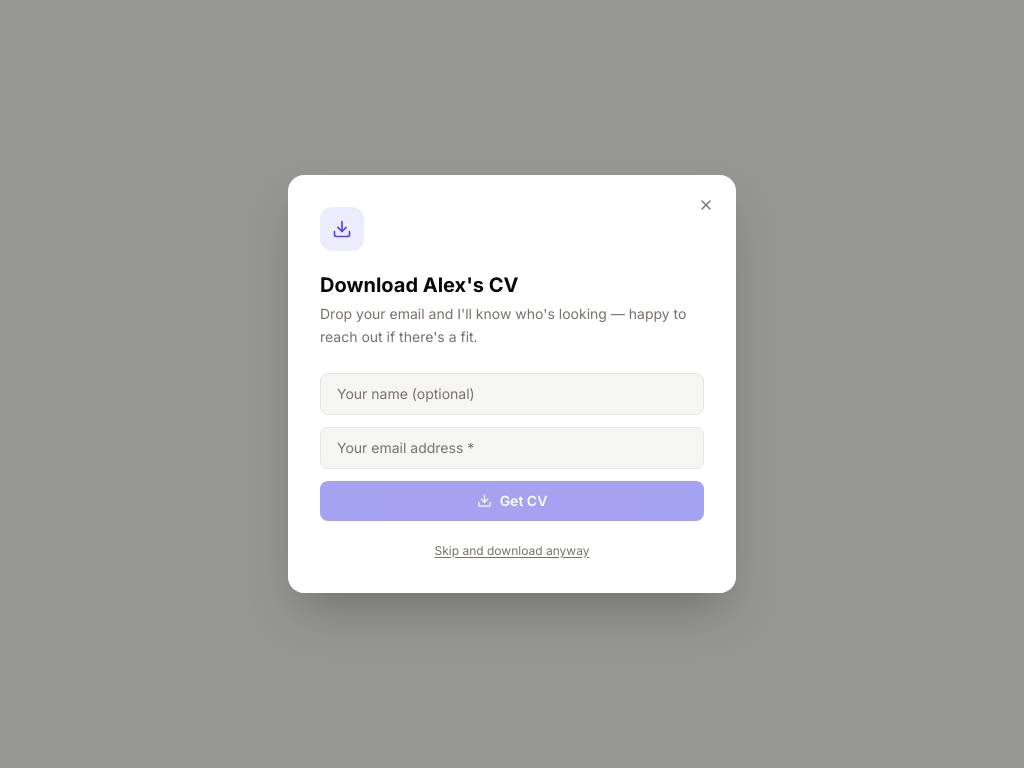
Scenario: LeadCaptureModal › submit button is enabled when email is filled
Type "test@example.com" into the field with placeholder "Your email address *".
click(512, 448); type("test@example.com")  # box x1=320 y1=427 x2=704 y2=469
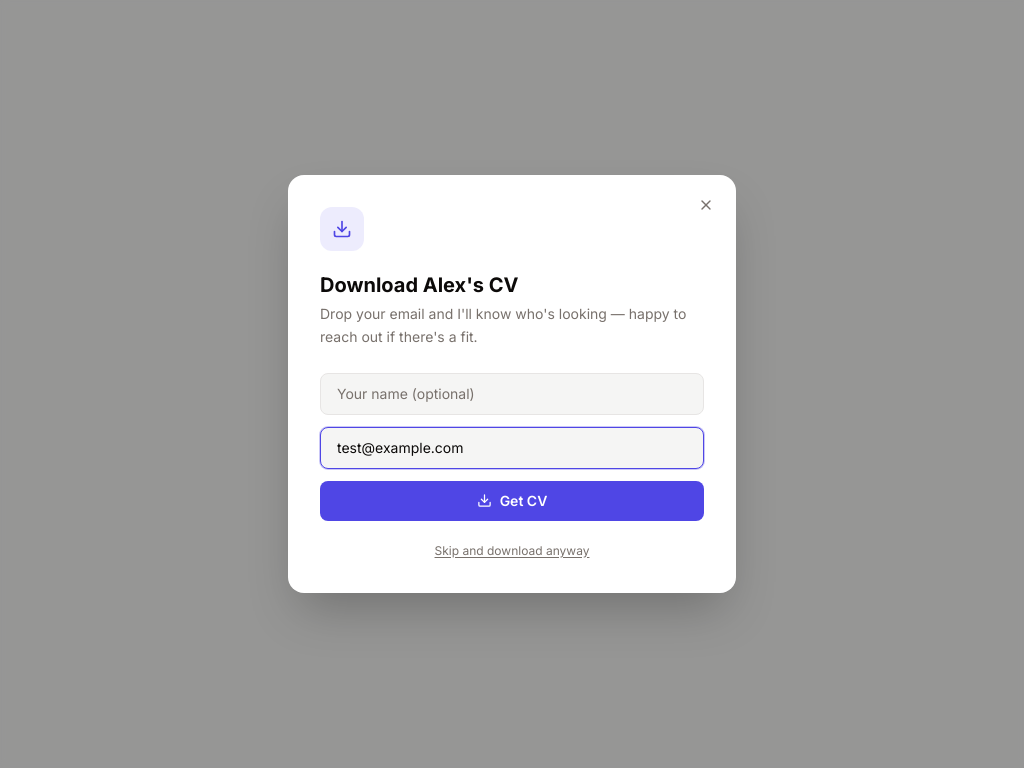
Check: the button "Get CV" is enabled, box x1=320 y1=481 x2=704 y2=521
